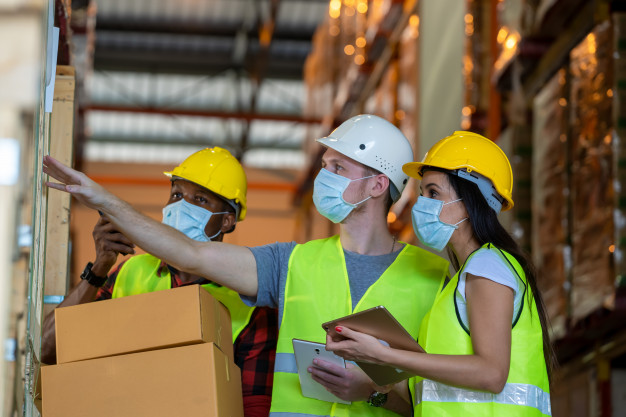hard-hat: (401, 128, 515, 216), (313, 112, 416, 204), (161, 144, 248, 221)
